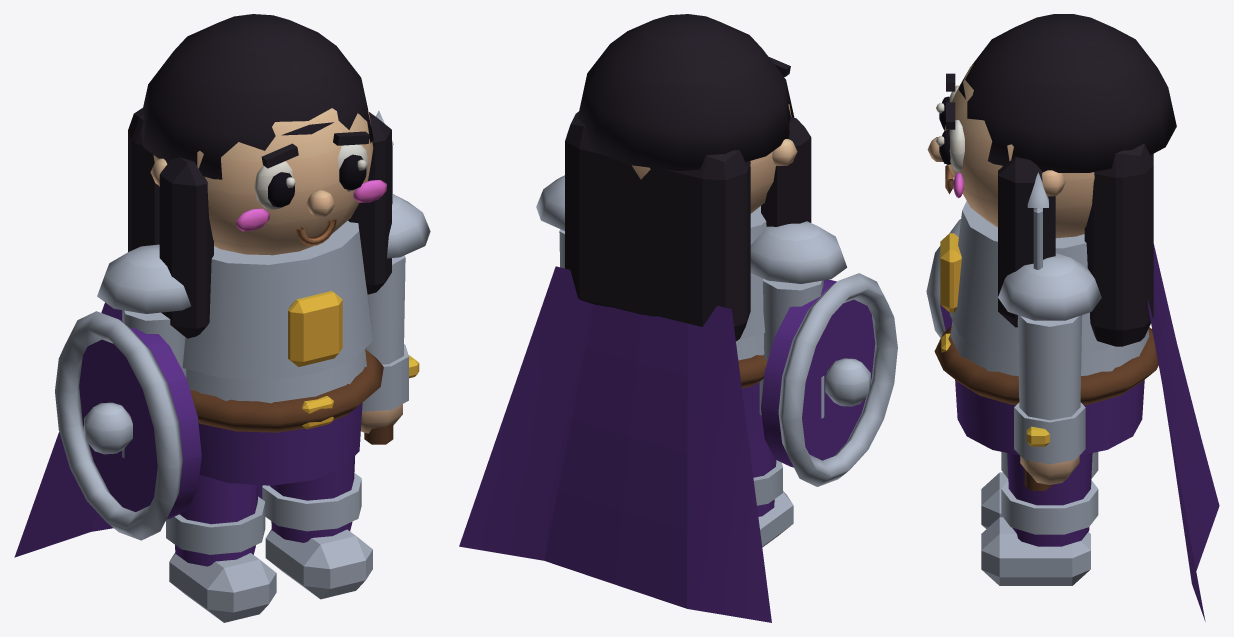
Rendered from hero_yseult.glb.
3 views of the same model, side by side, from view 1: azimuth 30°, elevation 25°; view 2: azimuth 150°, elevation 25°; view 3: azimuth 270°, elevation 25° (orthographic). The views are drawn at different scales.
Visible parts, largest first — view 1: body_t0_palette, arml_t0_palette, legl_t0_palette, legr_t0_palette, armr_t0_palette; view 2: body_t0_palette, arml_t0_palette, legl_t0_palette, armr_t0_palette; view 3: body_t0_palette, armr_t0_palette, legr_t0_palette, legl_t0_palette, arml_t0_palette.
Boxes of the visible parts, <box> form: body_t0_palette: <box>14,14,391,557</box>; arml_t0_palette: <box>55,244,201,540</box>; legl_t0_palette: <box>166,475,276,622</box>; legr_t0_palette: <box>262,456,372,599</box>; armr_t0_palette: <box>361,110,430,444</box>; body_t0_palette: <box>459,14,811,622</box>; arml_t0_palette: <box>750,221,897,486</box>; legl_t0_palette: <box>748,415,793,547</box>; armr_t0_palette: <box>536,175,564,268</box>; body_t0_palette: <box>927,14,1219,621</box>; armr_t0_palette: <box>998,172,1101,490</box>; legr_t0_palette: <box>981,453,1098,585</box>; legl_t0_palette: <box>981,452,1098,528</box>; arml_t0_palette: <box>926,219,960,337</box>.
Bounding box in the file's own units: 0.3349 × 0.508 × 0.254.
